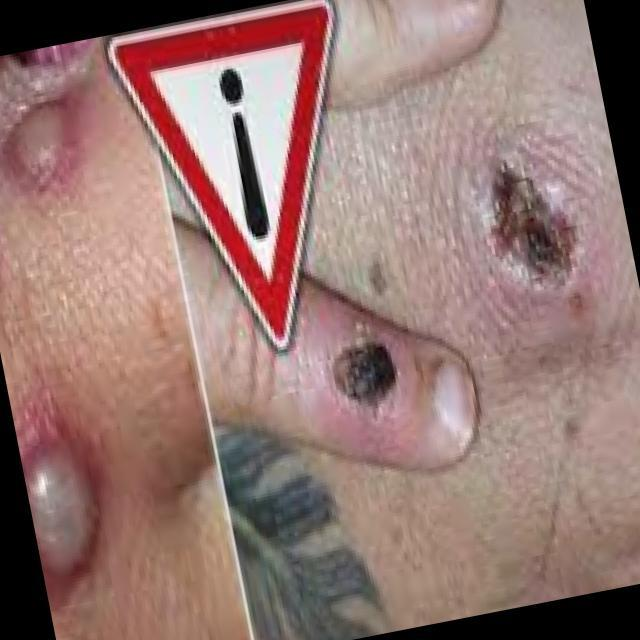Eczema: (476, 162, 596, 316), (22, 428, 111, 581), (4, 96, 81, 191), (328, 341, 400, 415)
